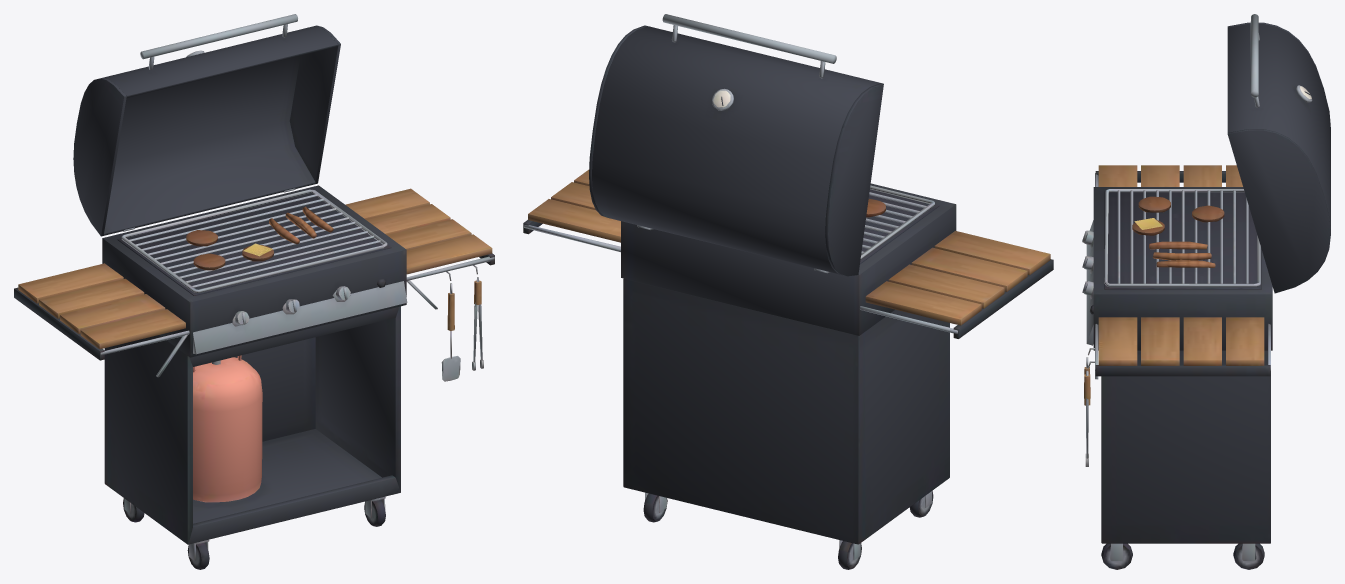
Rendered from g3d_gas_grill.glb.
3 views of the same model, side by side, from view 1: azimuth 30°, elevation 25°; view 2: azimuth 150°, elevation 25°; view 3: azimuth 270°, elevation 25° (orthographic). The views are drawn at different scales.
Visible parts, largest first — view 1: gas-grill_body_lo, gas-grill_body, gas-grill_hood_lo, gas-grill_hood; view 2: gas-grill_body, gas-grill_hood, gas-grill_body_lo, gas-grill_hood_lo; view 3: gas-grill_body, gas-grill_body_lo, gas-grill_hood_lo, gas-grill_hood.
Part boxes in pixels (x1,y1,x2,y2): gas-grill_body_lo: [18, 185, 494, 564]; gas-grill_body: [14, 193, 494, 569]; gas-grill_hood_lo: [73, 26, 338, 235]; gas-grill_hood: [73, 14, 340, 236]; gas-grill_body: [523, 180, 1053, 569]; gas-grill_hood: [589, 14, 883, 276]; gas-grill_body_lo: [524, 169, 1053, 559]; gas-grill_hood_lo: [589, 26, 883, 274]; gas-grill_body: [1082, 171, 1272, 569]; gas-grill_body_lo: [1082, 165, 1272, 566]; gas-grill_hood_lo: [1227, 22, 1330, 293]; gas-grill_hood: [1227, 14, 1330, 293].
Bounding box in the file's own units: 1.48 × 1.66 × 0.7918.
Materials: 2 (2 with a texture image).
